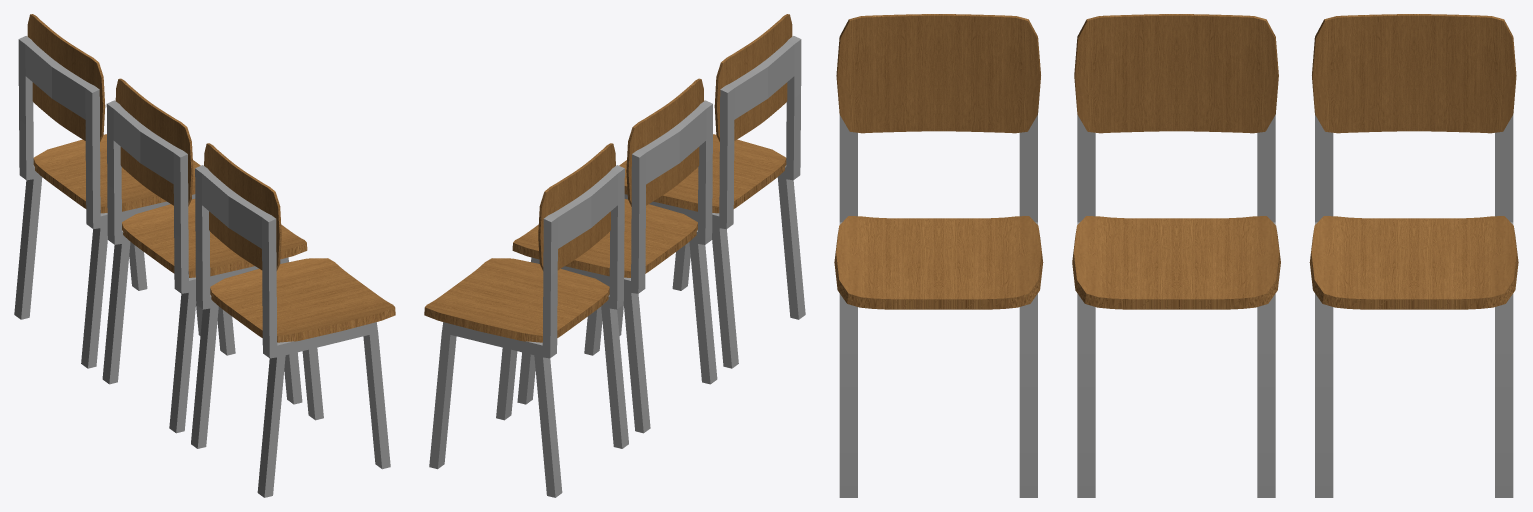
The model's file is SillasT_IzqDos.obj.
3 views of the same model, side by side, from view 1: azimuth 30°, elevation 25°; view 2: azimuth 150°, elevation 25°; view 3: azimuth 270°, elevation 25° (orthographic). The views are drawn at different scales.
Parts seen in each view (by area): view 1: group22_pasted__group11_pasted__pasted__group10_pasted__pasted__; view 2: group22_pasted__group11_pasted__pasted__group10_pasted__pasted__; view 3: group22_pasted__group11_pasted__pasted__group10_pasted__pasted__.
Boxes of the visible parts, x1=… form: group22_pasted__group11_pasted__pasted__group10_pasted__pasted__: x1=14, y1=14, x2=395, y2=497; group22_pasted__group11_pasted__pasted__group10_pasted__pasted__: x1=424, y1=14, x2=805, y2=497; group22_pasted__group11_pasted__pasted__group10_pasted__pasted__: x1=834, y1=14, x2=1518, y2=497.
Bounding box in the file's own units: 0.8412 × 1.78 × 2.71.
Materials: 6 (6 with a texture image).
